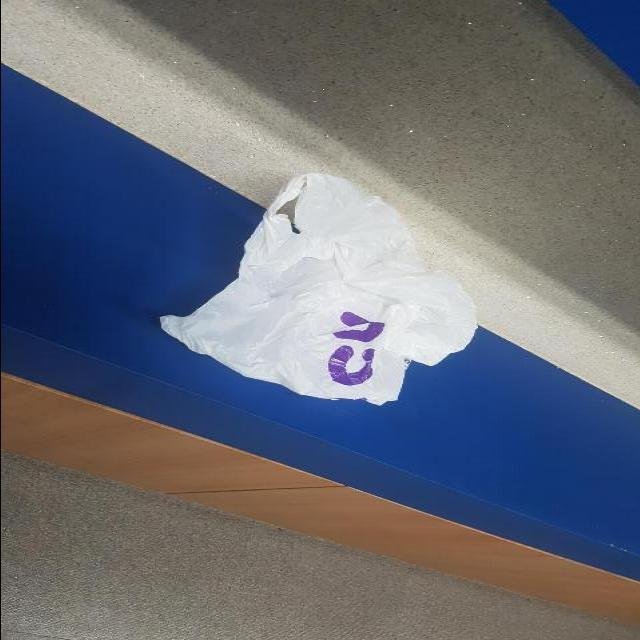plastic bag: (155, 168, 481, 412)
